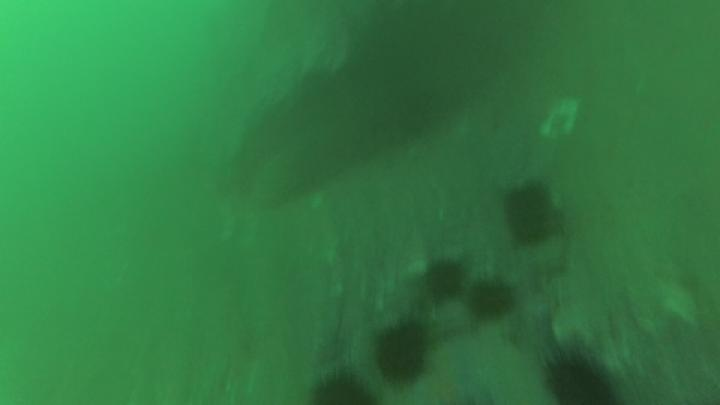echinus: (532, 336, 636, 405), (367, 311, 436, 388), (497, 178, 569, 250), (460, 274, 527, 335), (306, 357, 387, 405), (415, 248, 469, 303)
